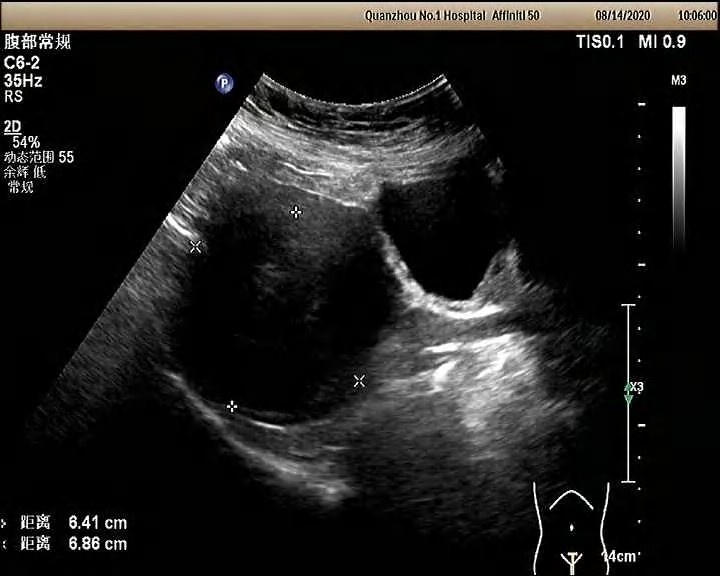肌瘤: (171, 199, 393, 413)
